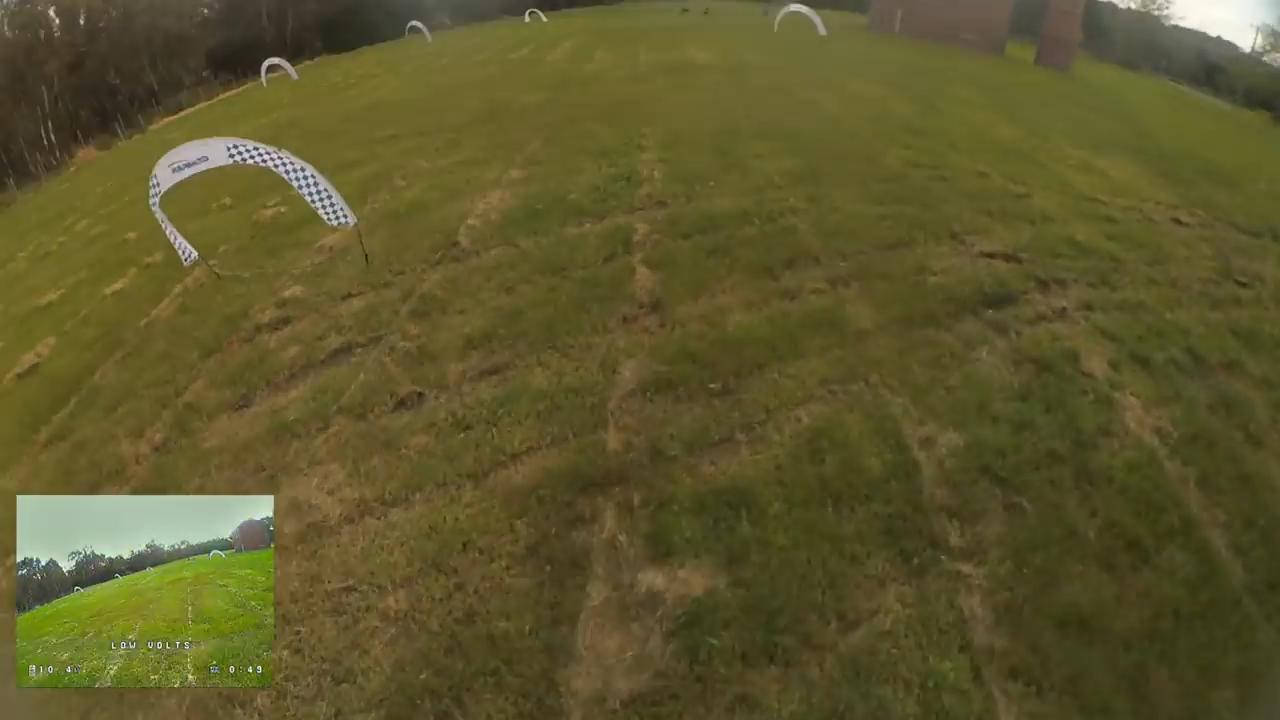gate: (139, 135, 382, 276), (775, 2, 829, 42), (260, 56, 302, 91), (404, 18, 432, 44), (524, 9, 548, 26)
